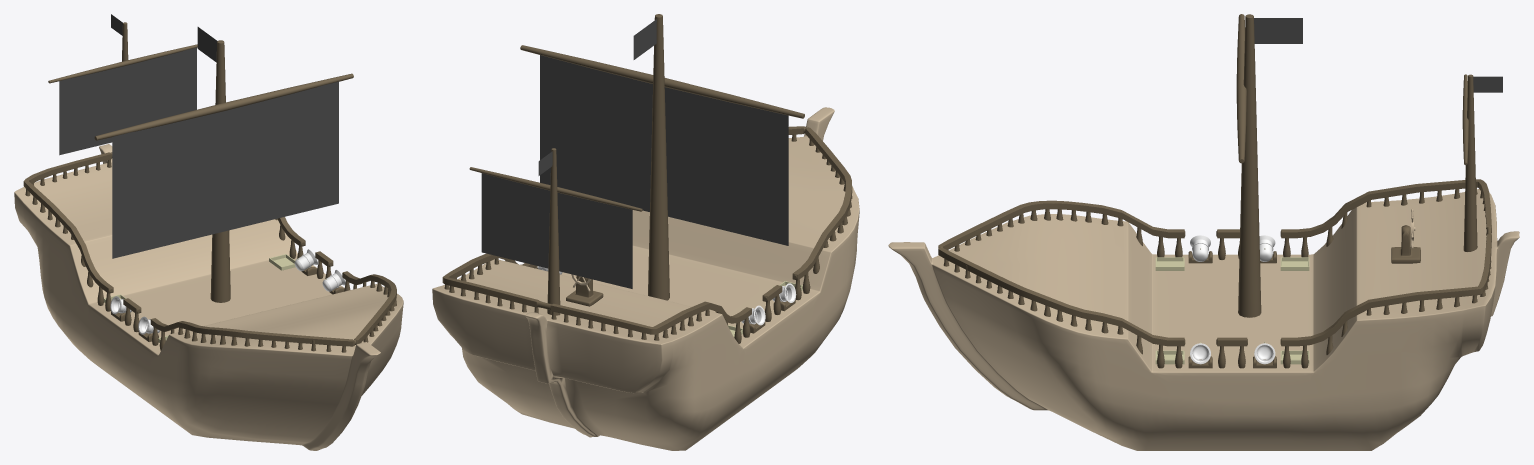
Rendered from Boat.fbx.
3 views of the same model, side by side, from view 1: azimuth 30°, elevation 25°; view 2: azimuth 150°, elevation 25°; view 3: azimuth 270°, elevation 25° (orthographic). The views are drawn at different scales.
Visible parts, largest first — view 1: Coque_VB, Voile (×2), polySurface1, Grand_porte_voile_VB (×2), polySurface2, Mât_VB, canon_VB (×2), Voile2, box; view 2: Coque_VB, Voile (×2), Mât_VB (×2), polySurface2, Grand_porte_voile_VB (×2), polySurface1, Support_Gouvernail_VB, Voile2; view 3: Coque_VB, Mât_VB (×2), polySurface1, polySurface2, canon_VB (×2), box, Voile2, Grand_porte_voile_VB, Support_Gouvernail_VB.
Boxes of the visible parts, x1,y1,x2,y2 form: Coque_VB: [14, 144, 403, 450]; Voile (×2): [59, 47, 338, 258]; polySurface1: [150, 271, 396, 346]; Grand_porte_voile_VB (×2): [48, 44, 353, 140]; polySurface2: [23, 152, 305, 293]; Mât_VB: [210, 40, 230, 302]; canon_VB (×2): [110, 249, 345, 334]; Voile2: [197, 27, 217, 62]; box: [104, 254, 295, 342]; Coque_VB: [432, 107, 859, 450]; Voile (×2): [481, 55, 788, 288]; Mât_VB (×2): [547, 14, 669, 315]; polySurface2: [442, 253, 751, 334]; Grand_porte_voile_VB (×2): [469, 45, 804, 211]; polySurface1: [788, 126, 852, 280]; Support_Gouvernail_VB: [566, 275, 603, 306]; Voile2: [633, 19, 656, 59]; Coque_VB: [888, 189, 1519, 450]; Mât_VB (×2): [1238, 14, 1477, 317]; polySurface1: [938, 200, 1185, 346]; polySurface2: [1280, 179, 1491, 346]; canon_VB (×2): [1190, 235, 1275, 364]; box: [1155, 257, 1309, 364]; Voile2: [1254, 18, 1302, 43]; Grand_porte_voile_VB: [1236, 14, 1246, 163]; Support_Gouvernail_VB: [1391, 225, 1420, 263].
Size of the model in its own units: 6.31 by 7.95 by 11.61.
